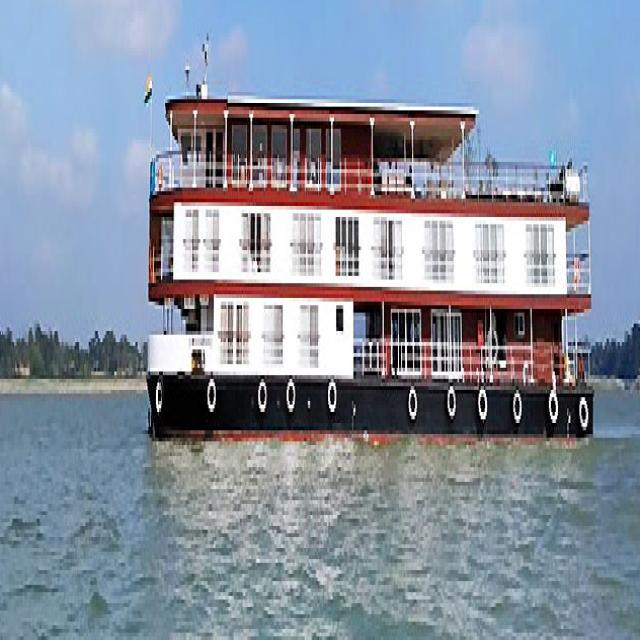passenger ship: (133, 28, 598, 490)
